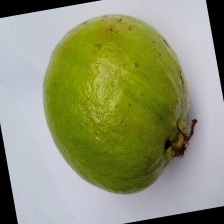guava: (48, 7, 220, 197)
